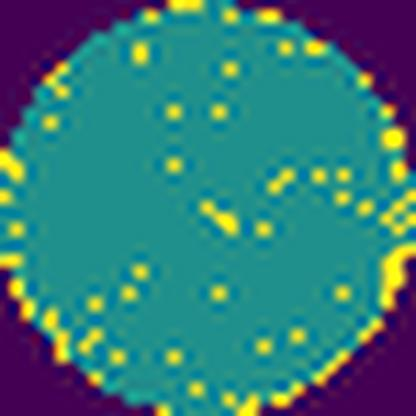Edge-Loc: (372, 238, 415, 315)
